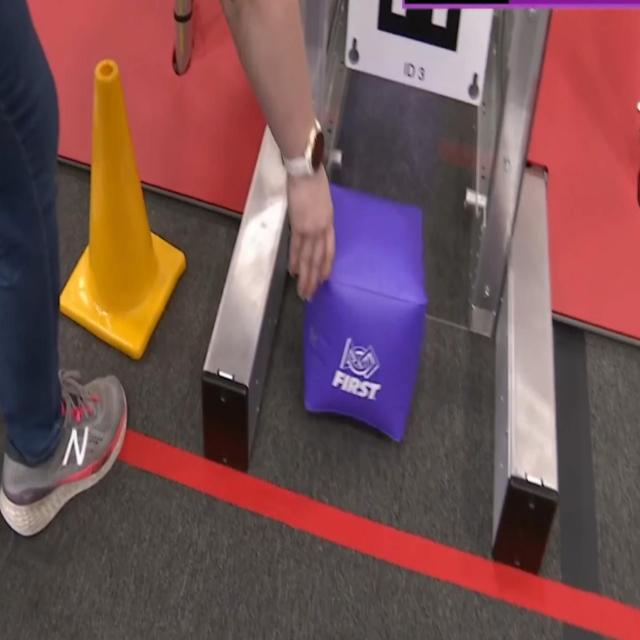frc_cone: (53, 63, 183, 365)
frc_cube: (300, 183, 428, 442)
